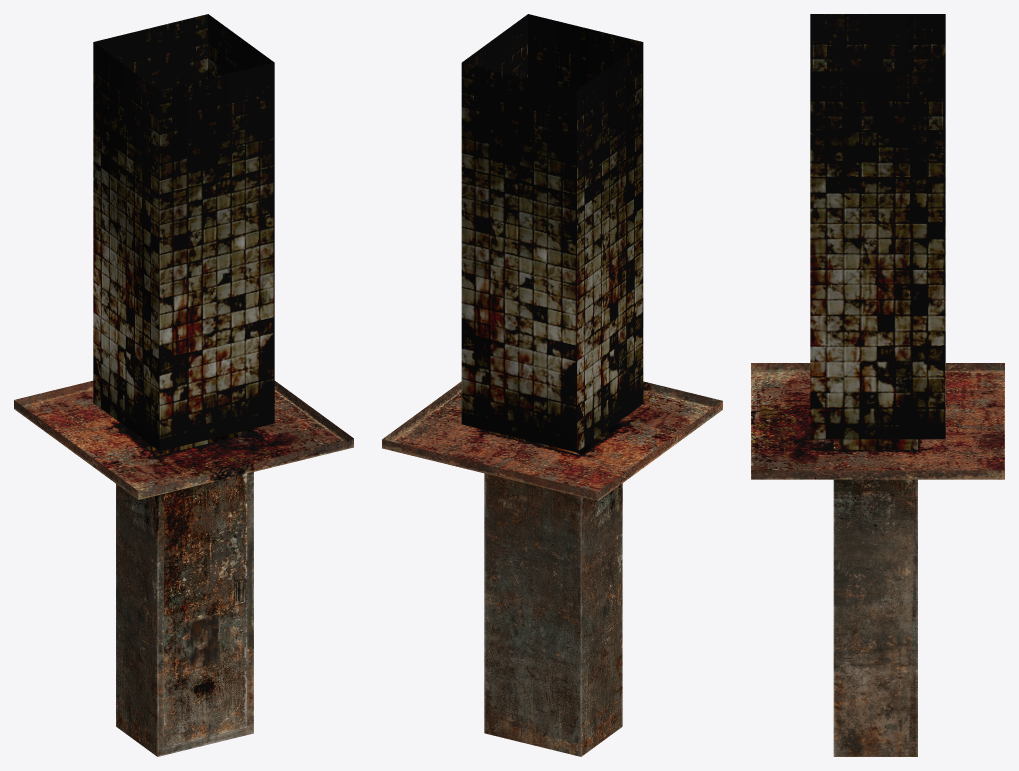
Rendered from bg_bg_fre.fbx.
3 views of the same model, side by side, from view 1: azimuth 30°, elevation 25°; view 2: azimuth 150°, elevation 25°; view 3: azimuth 270°, elevation 25° (orthographic).
Visible parts, largest first — view 1: node_7bed0fd6_bd34_4e19_946e_283a33d65153_mesh9, node_7bed0fd6_bd34_4e19_946e_283a33d65153_mesh0, node_7bed0fd6_bd34_4e19_946e_283a33d65153_mesh10, node_7bed0fd6_bd34_4e19_946e_283a33d65153_mesh1, node_7bed0fd6_bd34_4e19_946e_283a33d65153_mesh3; view 2: node_7bed0fd6_bd34_4e19_946e_283a33d65153_mesh9, node_7bed0fd6_bd34_4e19_946e_283a33d65153_mesh0, node_7bed0fd6_bd34_4e19_946e_283a33d65153_mesh10; view 3: node_7bed0fd6_bd34_4e19_946e_283a33d65153_mesh9, node_7bed0fd6_bd34_4e19_946e_283a33d65153_mesh0, node_7bed0fd6_bd34_4e19_946e_283a33d65153_mesh10, node_7bed0fd6_bd34_4e19_946e_283a33d65153_mesh3.
Boxes of the visible parts, left/top/right/bottom form: node_7bed0fd6_bd34_4e19_946e_283a33d65153_mesh9: left=93, top=14, right=274, bottom=451; node_7bed0fd6_bd34_4e19_946e_283a33d65153_mesh0: left=116, top=424, right=253, bottom=756; node_7bed0fd6_bd34_4e19_946e_283a33d65153_mesh10: left=14, top=380, right=353, bottom=499; node_7bed0fd6_bd34_4e19_946e_283a33d65153_mesh1: left=164, top=541, right=247, bottom=747; node_7bed0fd6_bd34_4e19_946e_283a33d65153_mesh3: left=125, top=426, right=242, bottom=455; node_7bed0fd6_bd34_4e19_946e_283a33d65153_mesh9: left=461, top=14, right=643, bottom=452; node_7bed0fd6_bd34_4e19_946e_283a33d65153_mesh0: left=484, top=423, right=622, bottom=756; node_7bed0fd6_bd34_4e19_946e_283a33d65153_mesh10: left=382, top=381, right=722, bottom=500; node_7bed0fd6_bd34_4e19_946e_283a33d65153_mesh9: left=810, top=14, right=945, bottom=439; node_7bed0fd6_bd34_4e19_946e_283a33d65153_mesh0: left=833, top=439, right=917, bottom=756; node_7bed0fd6_bd34_4e19_946e_283a33d65153_mesh10: left=751, top=363, right=1004, bottom=479; node_7bed0fd6_bd34_4e19_946e_283a33d65153_mesh3: left=842, top=439, right=912, bottom=449.
Size of the model in its own units: 75000 by 225094 by 75000.
Materials: 6 (6 with a texture image).
